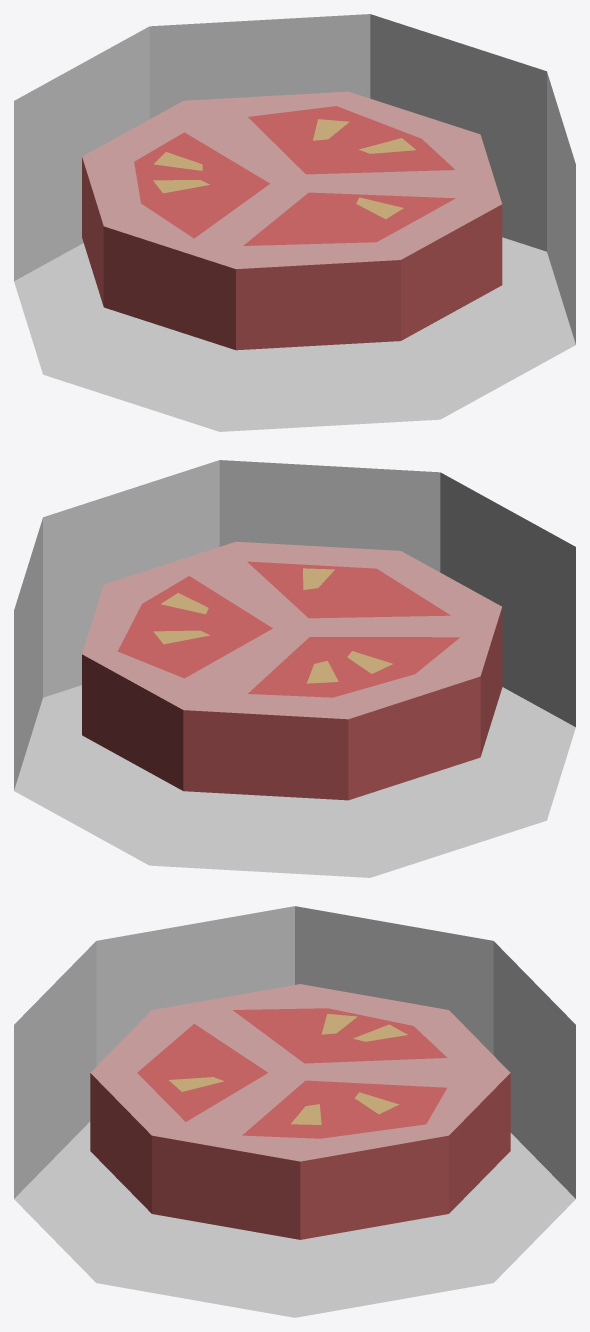
File: FishdogTomato.glb
3 renders of one model, top to bottom at view 1: azimuth 30°, elevation 25°; view 2: azimuth 150°, elevation 25°; view 3: azimuth 270°, elevation 25°, orthographic. The views are drawn at different scales.
Visible parts, largest first — view 1: FishdogTomato; view 2: FishdogTomato; view 3: FishdogTomato.
Part boxes in pixels (x1,y1,x2,y2): FishdogTomato: [14, 14, 575, 431]; FishdogTomato: [14, 460, 575, 877]; FishdogTomato: [14, 906, 575, 1317].
Bounding box in the file's own units: 0.2151 × 0.0736 × 0.2151.
